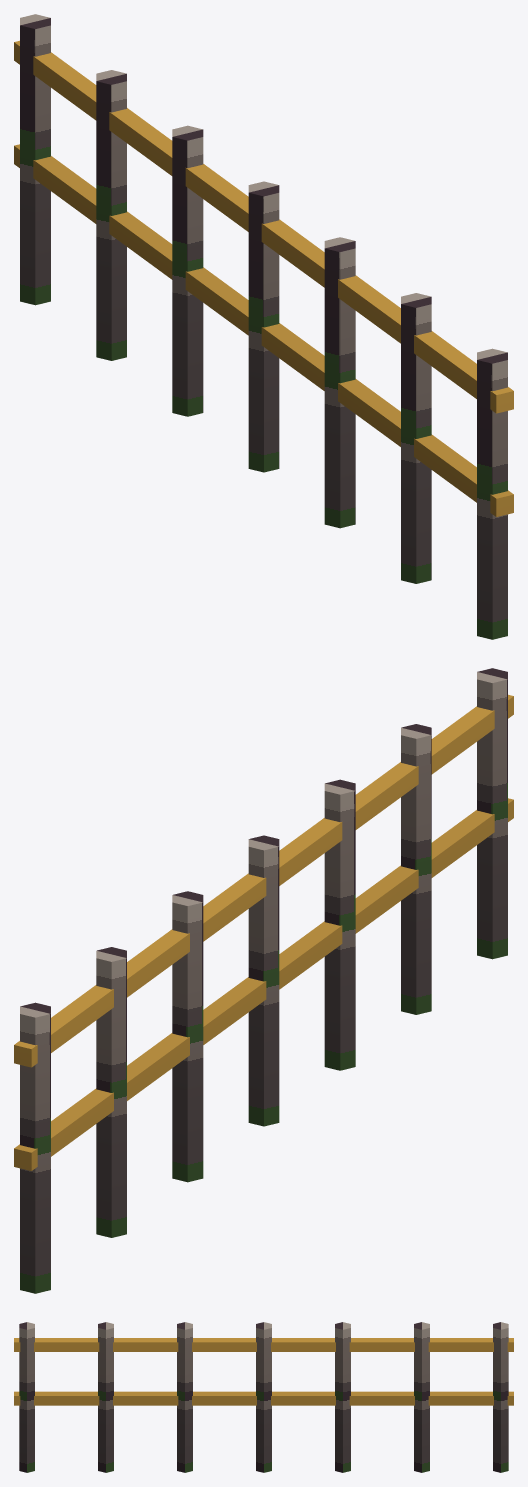
Rendered from skyfield_fence.glb.
3 views of the same model, one above another, from view 1: azimuth 30°, elevation 25°; view 2: azimuth 150°, elevation 25°; view 3: azimuth 270°, elevation 25° (orthographic). The views are drawn at different scales.
Visible parts, largest first — view 1: skyfield_fence; view 2: skyfield_fence; view 3: skyfield_fence.
Boxes of the visible parts, <box> form: skyfield_fence: <box>14,14,513,639</box>; skyfield_fence: <box>14,668,513,1293</box>; skyfield_fence: <box>14,1322,513,1472</box>.
Bounding box in the file's own units: 0.14 × 1.2 × 3.8.
Materials: 2 (1 with a texture image).
